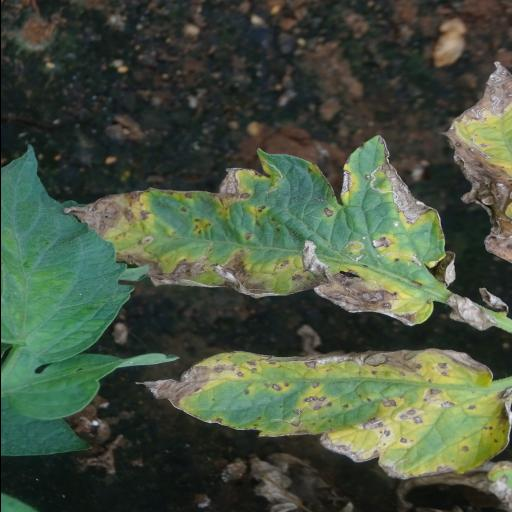disease_tomato: (60, 135, 446, 327), (134, 347, 510, 479)
